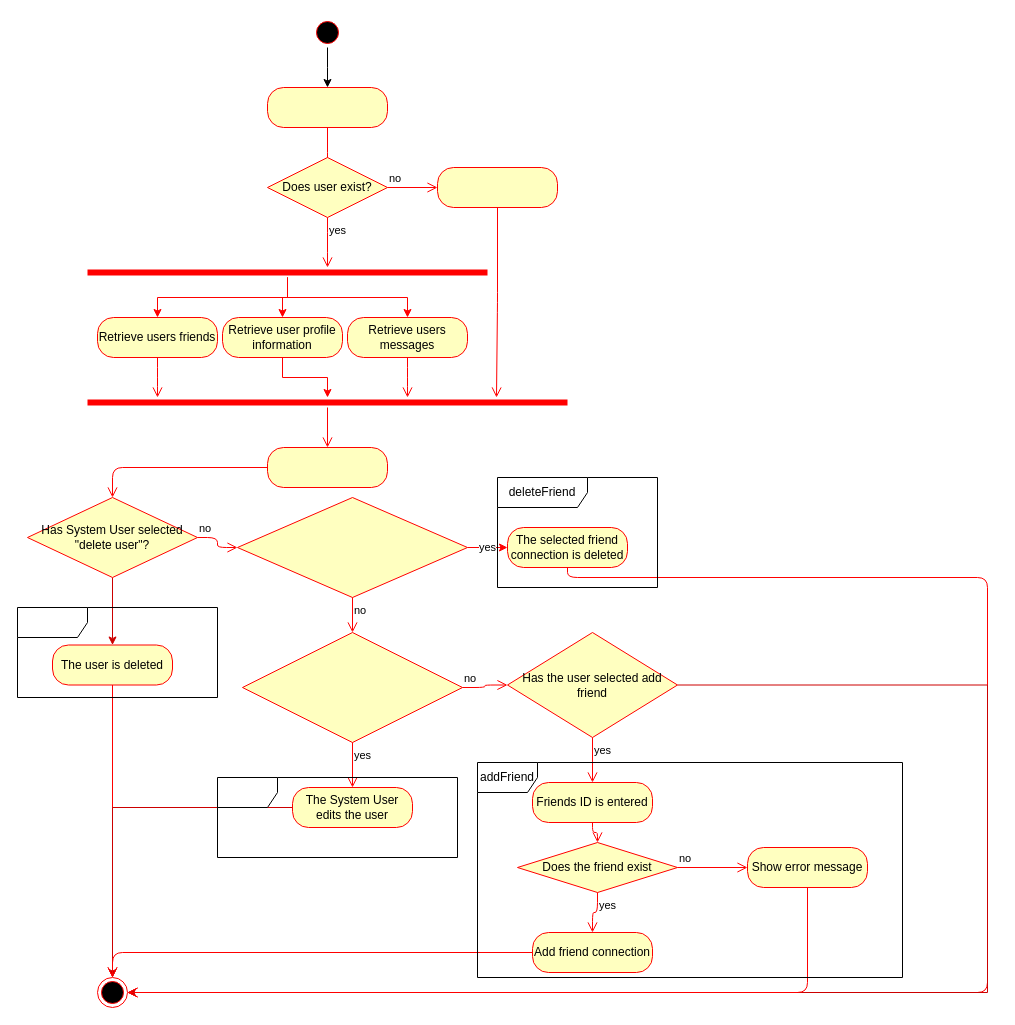
This 1015x1025 diagram has some shape labels left out. Each missing label, with the box of its shape:
deleteUser: (16, 606, 218, 698)
editUser: (216, 776, 458, 858)
Has System User selected "edit user"?: (242, 632, 462, 742)
Has System User selected a friend and tried to delete them?: (236, 496, 468, 598)
Show user information: (266, 446, 388, 488)
System User creates user: (436, 166, 558, 208)
System user searches or selects user: (266, 86, 388, 128)
